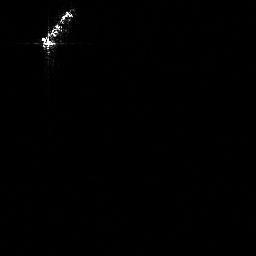ship: (39, 5, 76, 55)
